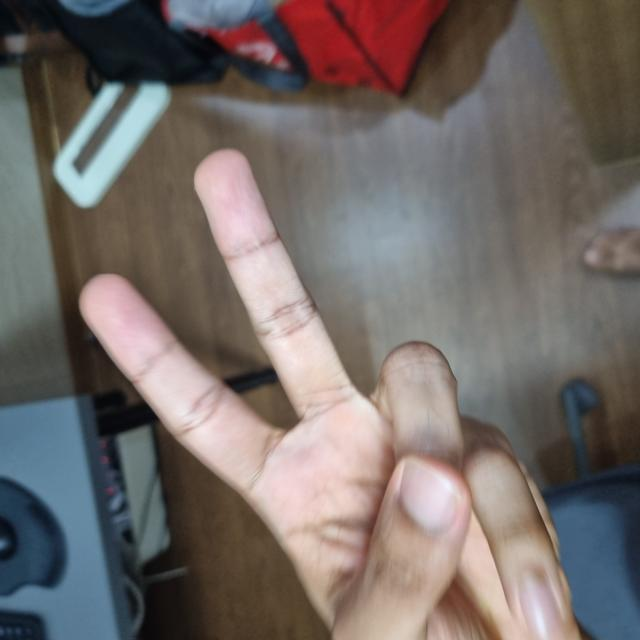Scissors: (0, 90, 483, 615)
